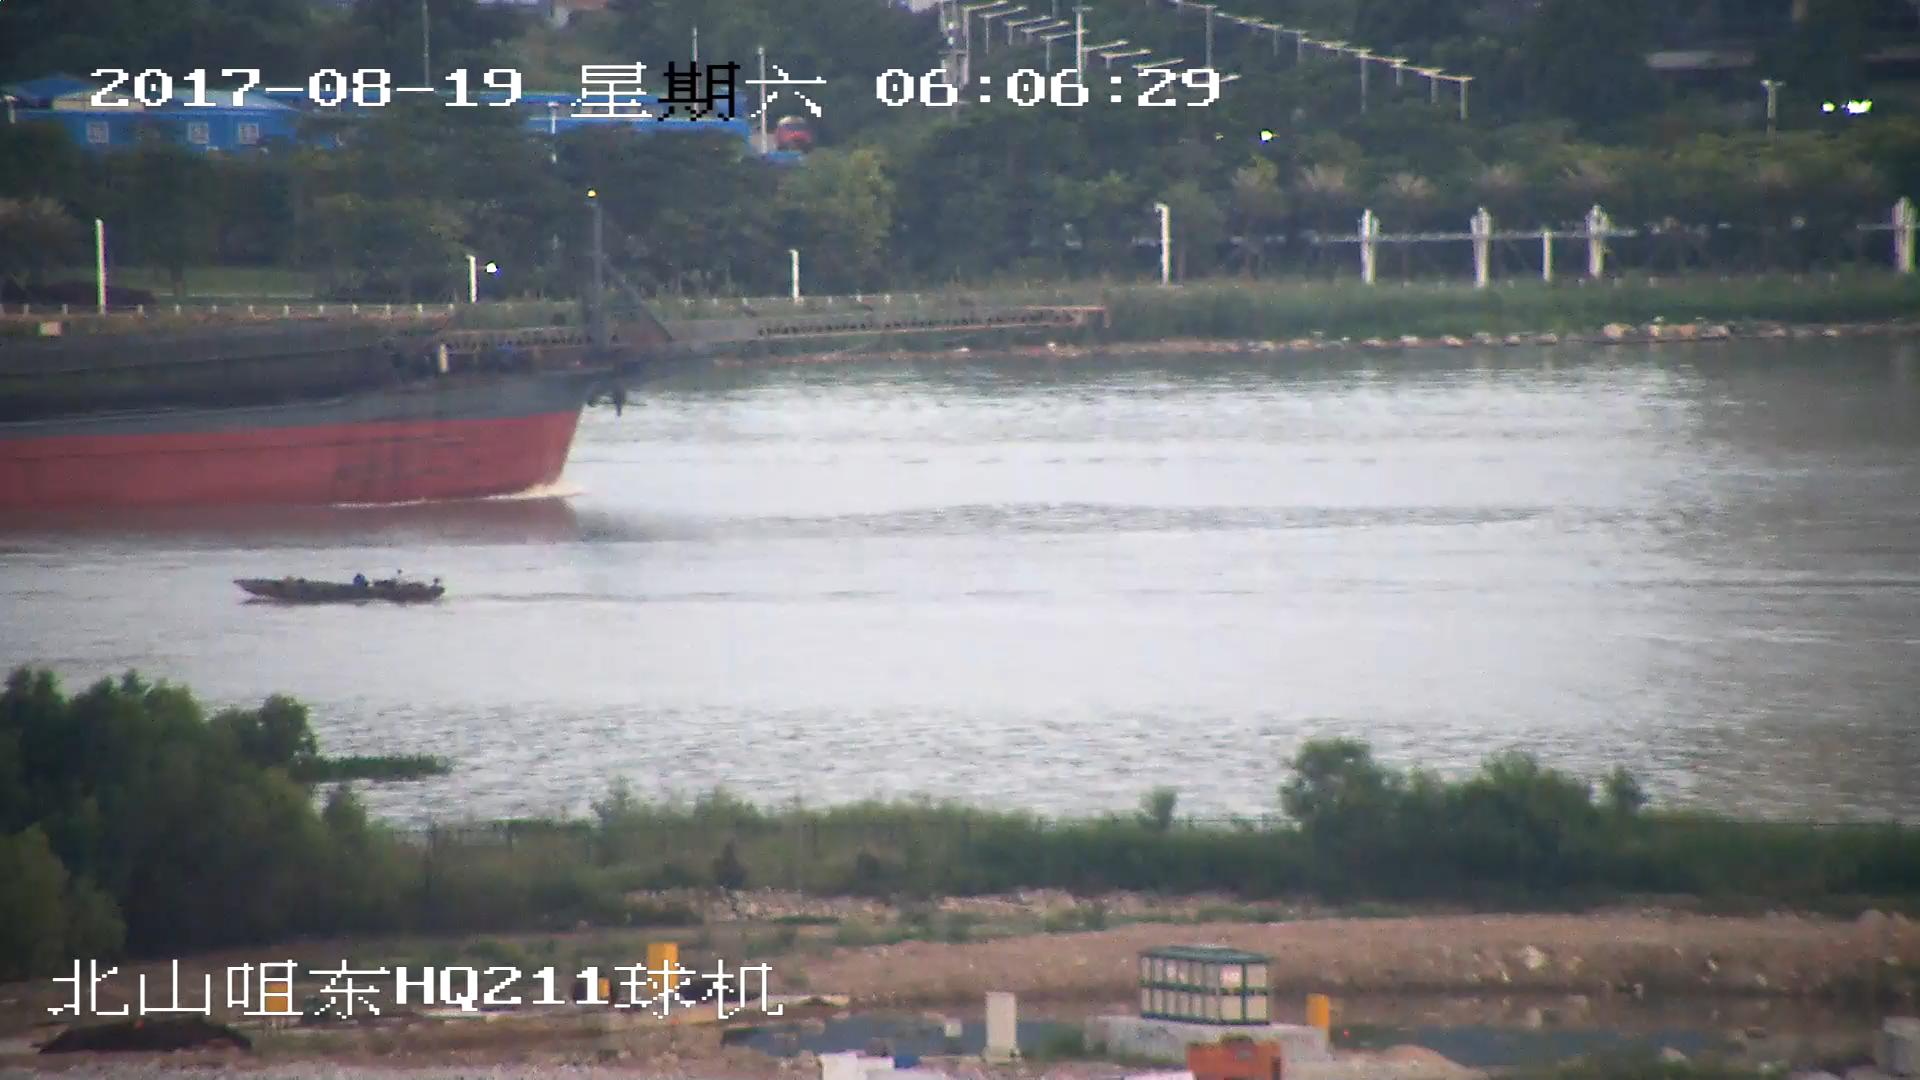bulk cargo carrier: (1, 195, 1078, 511)
fishing boat: (234, 566, 451, 605)
